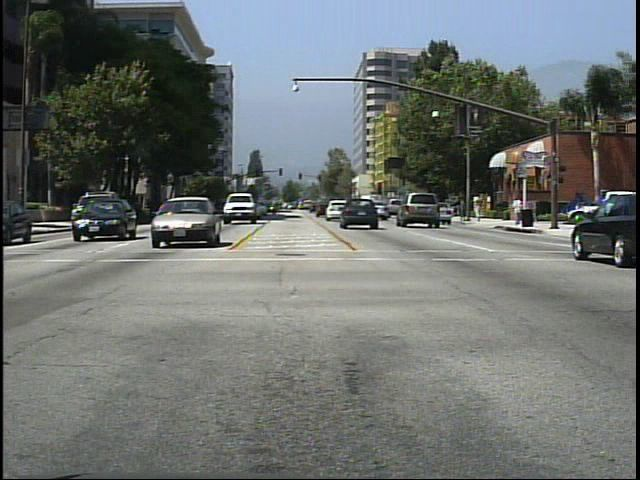person: (509, 192, 524, 228), (472, 192, 485, 224)
